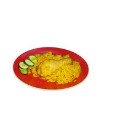briyani: (37, 52, 81, 83)
